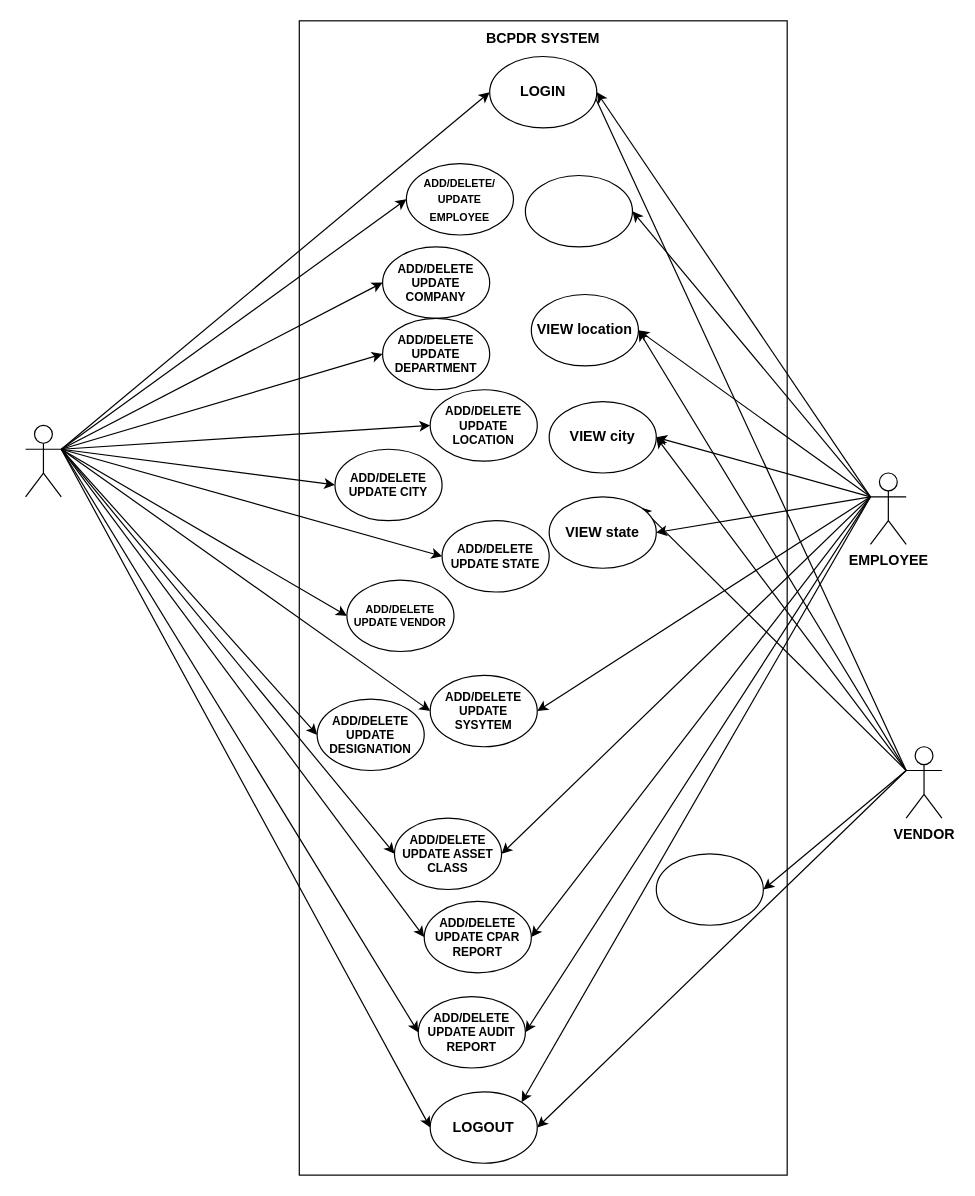
This 975x1196 diagram has some shape labels left out. The shapes that lost their labels are listed below. From the top down, each one's box as (x1, y1, x2, y2) in pixels, then its label:
(524, 174, 632, 247): VIEW Designation
(24, 424, 61, 497): ADMIN
(655, 853, 763, 925): View Vendor category master
